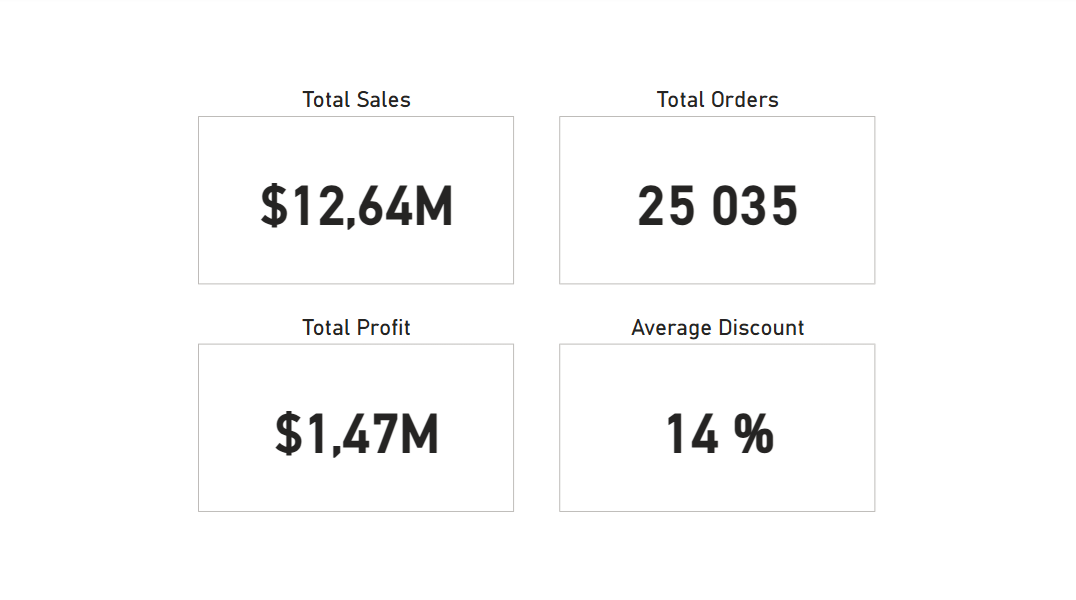

The dashboard page shown, as its layout file describes it:
{"tool":"powerbi","page":{"name":"Global Overview","canvas":[1280,720],"ordinal":0},"visuals":[{"type":"cardVisual","title":"Total Sales","fields":{"Data":["Sum(Global_Superstore2.Sales)"]},"box":[235.5,107.4,382.6,238.4],"z":0},{"type":"cardVisual","title":"Total Profit","fields":{"Data":["Sum(Global_Superstore2.Profit)"]},"box":[235.5,375.3,382.6,238.4],"z":1000},{"type":"cardVisual","title":"Average Discount","fields":{"Data":["Avg(Global_Superstore2.Discount)"]},"box":[660.8,375.3,382.6,238.4],"z":2000},{"type":"cardVisual","title":"Total Orders","fields":{"Data":["Count(Global_Superstore2.Order ID)"]},"box":[660.8,107.4,382.6,238.4],"z":3000}]}

Visuals, with their boxes in screenshot pixels (x1, y1, x2, y2), scaled from the page's 1280x720 canvas onto the 1076x600 screenshot:
"Total Sales" cardVisual: left=198, top=90, right=520, bottom=288
"Total Profit" cardVisual: left=198, top=313, right=520, bottom=511
"Average Discount" cardVisual: left=555, top=313, right=877, bottom=511
"Total Orders" cardVisual: left=555, top=90, right=877, bottom=288
